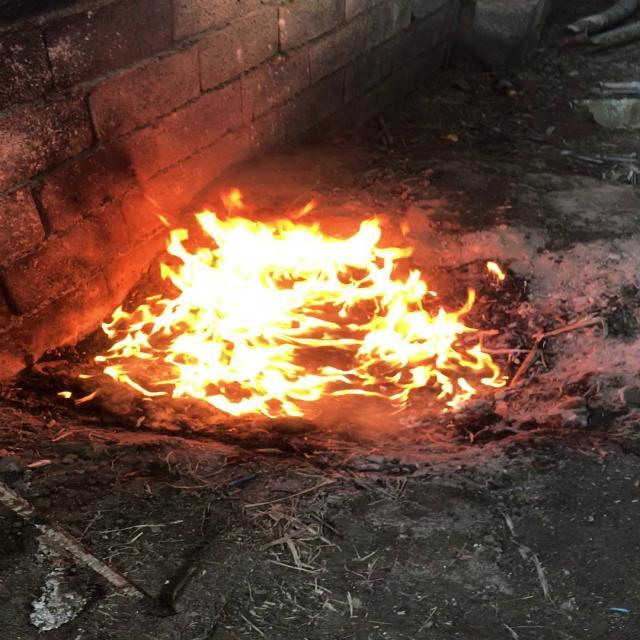Fire: (90, 184, 492, 402)
